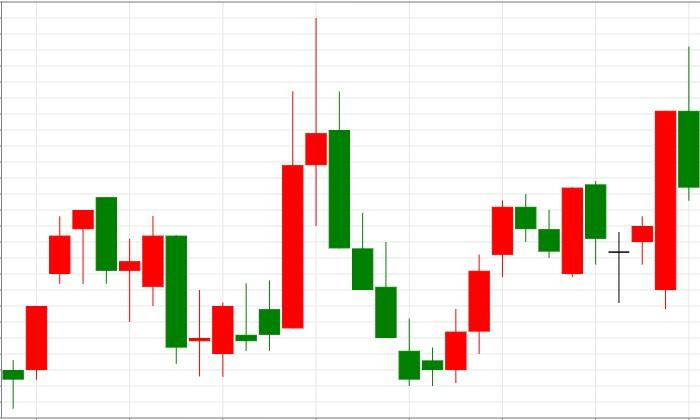bearish_engulfing_fall: (2, 196, 117, 408)
three_black_crows_fall: (211, 18, 397, 378)
three_white_soldiers_rise: (305, 18, 514, 387)
